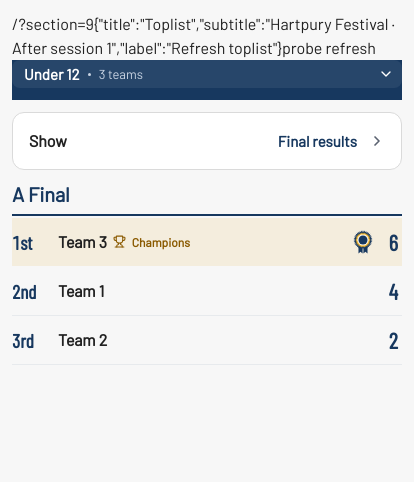
the Show row inside Toplist › opens on Final results when the age group has finals with results
Expected: the element named "Final results" is shown, x1=12 y1=182 x2=402 y2=365
Click the dropdown labelled "Show".
click(48, 140)  # box x1=13 y1=113 x2=401 y2=169
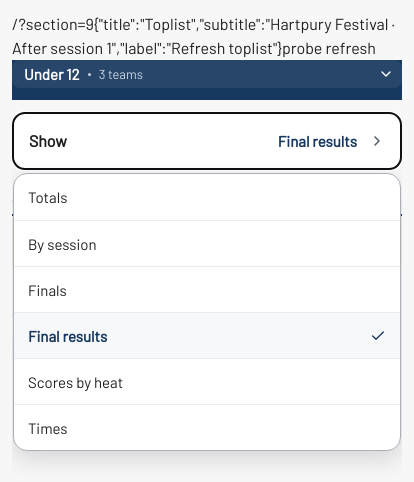
Expected: the options read "Totals", "By session", "Finals", "Final results", "Scores by heat", "Times", in this order, x1=28 y1=188 x2=67 y2=206; x1=14 y1=220 x2=400 y2=266; x1=14 y1=266 x2=400 y2=312; x1=14 y1=312 x2=400 y2=358; x1=14 y1=358 x2=400 y2=404; x1=14 y1=404 x2=400 y2=450
